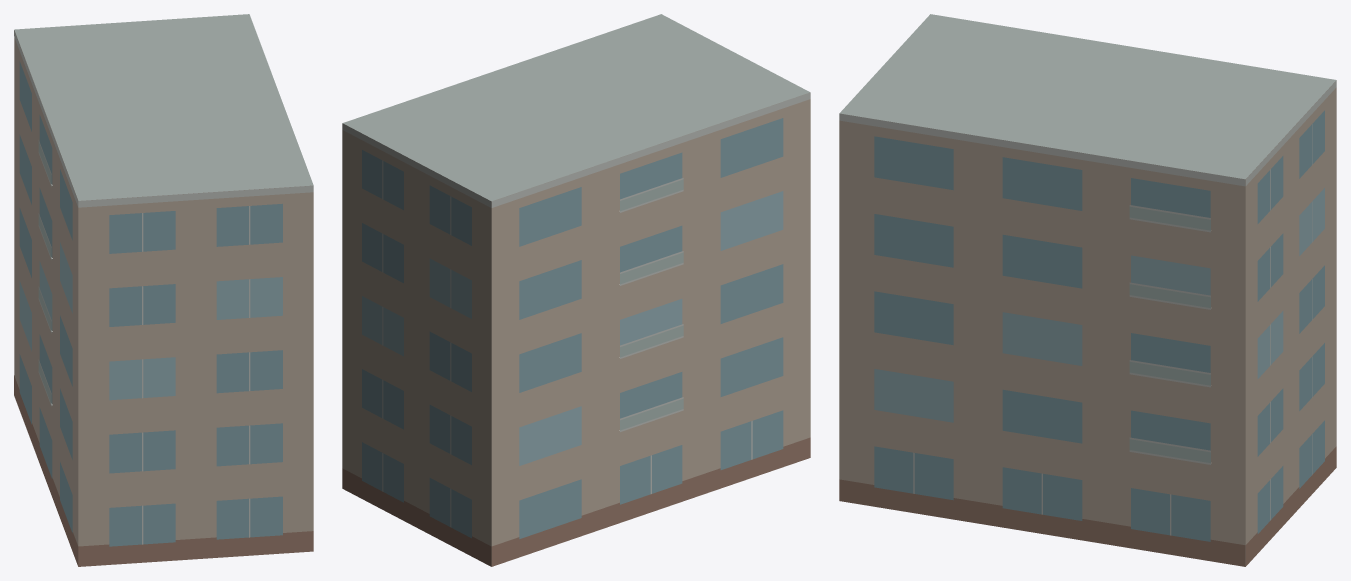
File: survey-upis-32868457.glb
3 renders of one model, left to right at view 1: azimuth 30°, elevation 25°; view 2: azimuth 150°, elevation 25°; view 3: azimuth 270°, elevation 25°, orthographic. The views are drawn at different scales.
Parts seen in each view (by area): view 1: survey-upis-32868457.tmp; view 2: survey-upis-32868457.tmp; view 3: survey-upis-32868457.tmp.
Part boxes in pixels (x1,y1,x2,y2): survey-upis-32868457.tmp: (14,14,313,566); survey-upis-32868457.tmp: (342,14,810,566); survey-upis-32868457.tmp: (839,14,1336,566).
Size of the model in its own units: 12.13 by 13.25 by 15.42.
